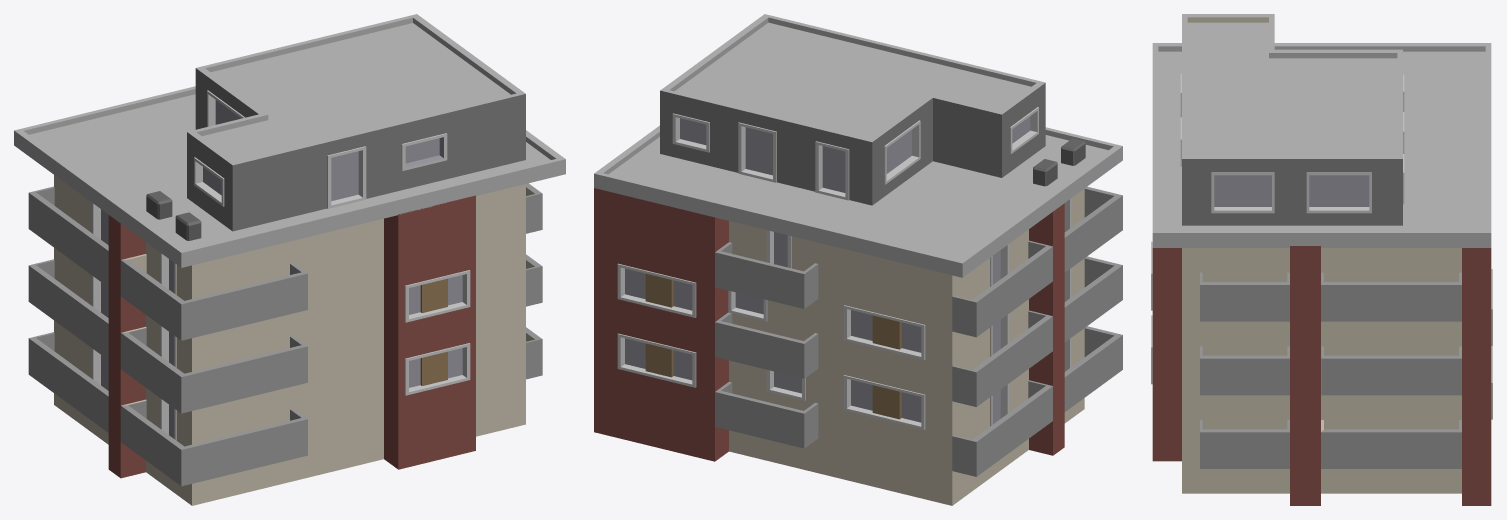
File: flats.fbx
3 views of the same model, side by side, from view 1: azimuth 30°, elevation 25°; view 2: azimuth 150°, elevation 25°; view 3: azimuth 270°, elevation 25° (orthographic). The views are drawn at different scales.
Parts seen in each view (by area): view 1: Cube; view 2: Cube; view 3: Cube.
Boxes of the visible parts, x1,y1,x2,y2 form: Cube: (14,14,565,505); Cube: (594,14,1122,505); Cube: (1151,14,1492,505).
Size of the model in its own units: 304 by 250 by 231.
